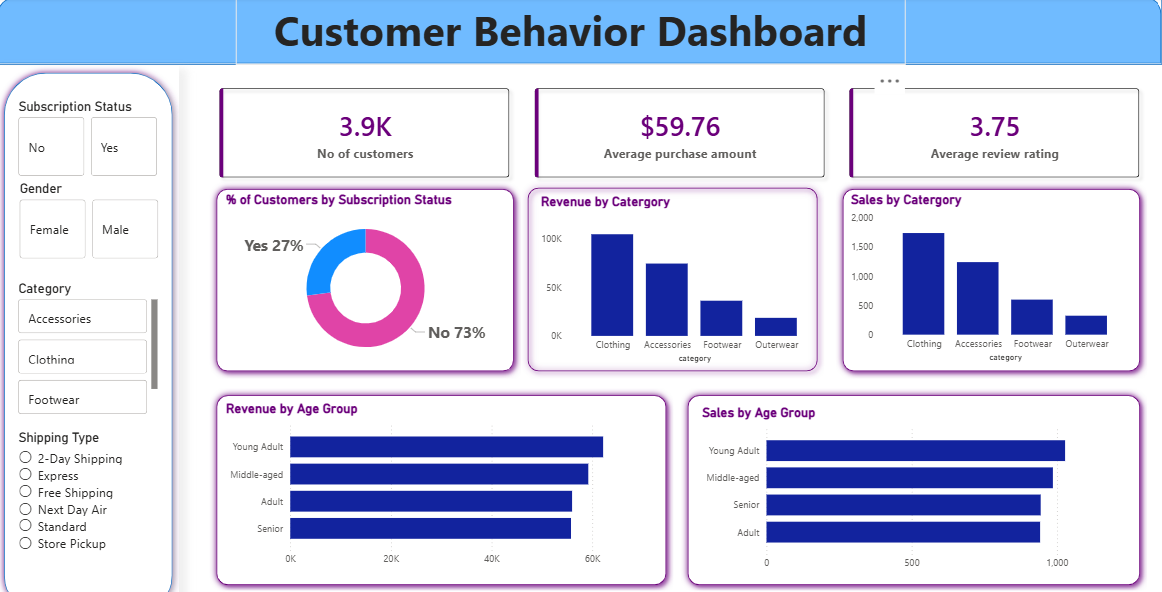

This screenshot's page, from the dashboard's own definition file:
{"tool":"powerbi","page":{"name":"Page 1","canvas":[1500,820],"ordinal":0},"visuals":[{"type":"cardVisual","fields":{"Data":["public customer.No of customers","public customer.Average purchase amount","public customer.Average review rating"]},"box":[257.3,88.4,1243,173.7],"z":0},{"type":"shape","box":[0,0,1500.3,86.8],"z":1000},{"type":"textbox","box":[307.1,0,861.9,86.8],"z":2000},{"type":"shape","box":[273.4,238,400.4,252.5],"z":3000},{"type":"donutChart","title":"% of Customers by Subscription Status","fields":{"Category":["public customer.subscription_status"],"Y":["CountNonNull(public customer.customer_id)"]},"box":[289.5,250.9,369.9,228.3],"z":4000},{"type":"shape","box":[273.4,503.3,596.6,262.1],"z":5000},{"type":"shape","box":[1079,238,400.4,252.5],"z":6000},{"type":"clusteredColumnChart","title":"Revenue by Catergory","fields":{"Y":["Sum(public customer.purchase_amount)"],"Category":["public customer.category"]},"box":[694.7,252.5,369.9,223.5],"z":7000},{"type":"clusteredColumnChart","title":"Sales by Catergory","fields":{"Category":["public customer.category"],"Y":["CountNonNull(public customer.customer_id)"]},"box":[1093.5,250.9,369.9,223.5],"z":8000},{"type":"shape","box":[0,88.4,234.8,718.8],"z":9000},{"type":"advancedSlicerVisual","title":"Subscription Status","fields":{"Values":["public customer.subscription_status"]},"box":[22.5,130.3,189.8,106.1],"z":10000},{"type":"advancedSlicerVisual","title":"Gender","fields":{"Values":["public customer.gender"]},"box":[24.1,236.4,189.8,106.1],"z":11000},{"type":"advancedSlicerVisual","title":"Category","fields":{"Values":["public customer.category"]},"box":[22.5,365,189.8,178.5],"z":12000},{"type":"listSlicer","title":"Shipping Type","fields":{"Values":["public customer.shipping_type"]},"box":[22.5,556.4,172.1,209],"z":13000},{"type":"clusteredBarChart","title":"Revenue by Age Group","fields":{"Y":["Sum(public customer.purchase_amount)"],"Category":["public customer.age_group"]},"box":[289.5,519.4,556.4,221.9],"z":14000},{"type":"shape","box":[673.8,236.4,390.8,254.1],"z":15000},{"type":"shape","box":[879.6,503.3,599.8,262.1],"z":16000},{"type":"clusteredBarChart","title":"Sales by Age Group","fields":{"Category":["public customer.age_group"],"Y":["CountNonNull(public customer.customer_id)"]},"box":[902.1,524.2,556.4,221.9],"z":17000}]}

Visuals, with their boxes on the page's 1500x820 design canvas (x1, y1, x2, y2). These are canvas units, not pixel positions in the 1162x592 screenshot, which may show the page scaled, cropped or inside an application window:
cardVisual - public customer.No of customers x public customer.Average purchase amount: detection(257, 88, 1500, 262)
shape: detection(0, 0, 1500, 87)
textbox: detection(307, 0, 1169, 87)
shape: detection(273, 238, 674, 490)
"% of Customers by Subscription Status" donutChart: detection(290, 251, 659, 479)
shape: detection(273, 503, 870, 765)
shape: detection(1079, 238, 1479, 490)
"Revenue by Catergory" clusteredColumnChart: detection(695, 252, 1065, 476)
"Sales by Catergory" clusteredColumnChart: detection(1094, 251, 1463, 474)
shape: detection(0, 88, 235, 807)
"Subscription Status" advancedSlicerVisual: detection(22, 130, 212, 236)
"Gender" advancedSlicerVisual: detection(24, 236, 214, 342)
"Category" advancedSlicerVisual: detection(22, 365, 212, 544)
"Shipping Type" listSlicer: detection(22, 556, 195, 765)
"Revenue by Age Group" clusteredBarChart: detection(290, 519, 846, 741)
shape: detection(674, 236, 1065, 490)
shape: detection(880, 503, 1479, 765)
"Sales by Age Group" clusteredBarChart: detection(902, 524, 1458, 746)
